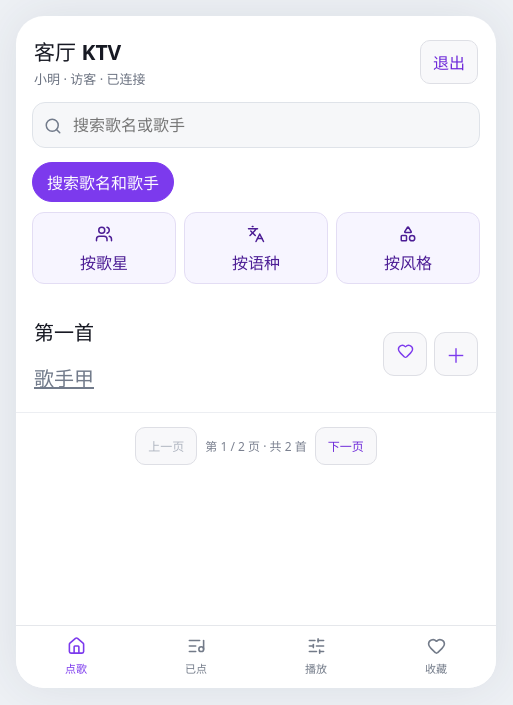
it: mobile application shell › navigates between catalog pages
The image size is (513, 705).
Expected: the button "第一首" is shown, [34, 309, 94, 353]
Click the button "下一页" at [346, 446], box [315, 427, 377, 465]
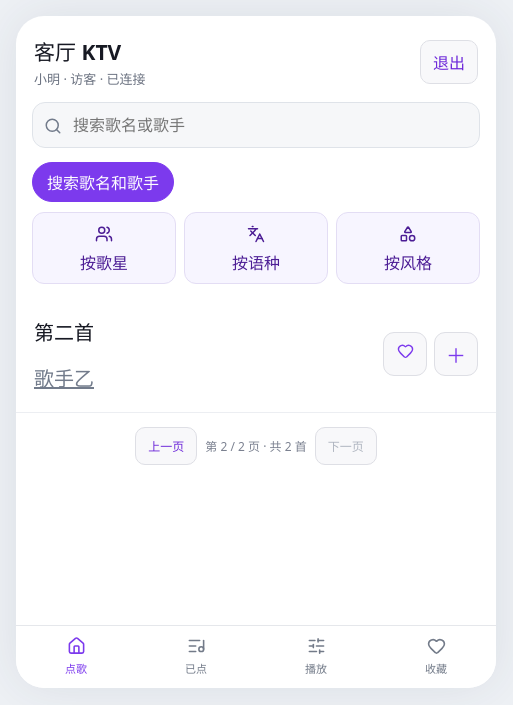
Result: the button "第二首" is shown at [34, 309, 94, 353]
Result: the button "第一首" is gone
